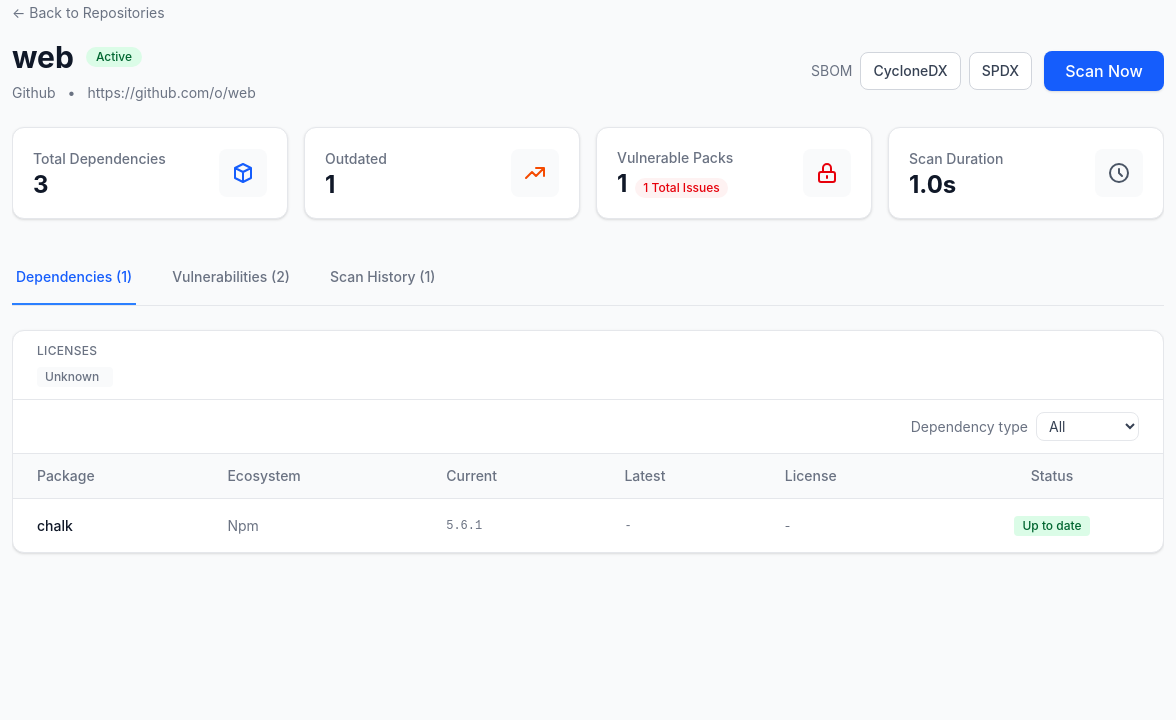
Test: RepoDetail › marks malicious packages in the vulnerability table
Click the button "Vulnerabilities (2)". click: (231, 278)
box: [168, 251, 294, 305]
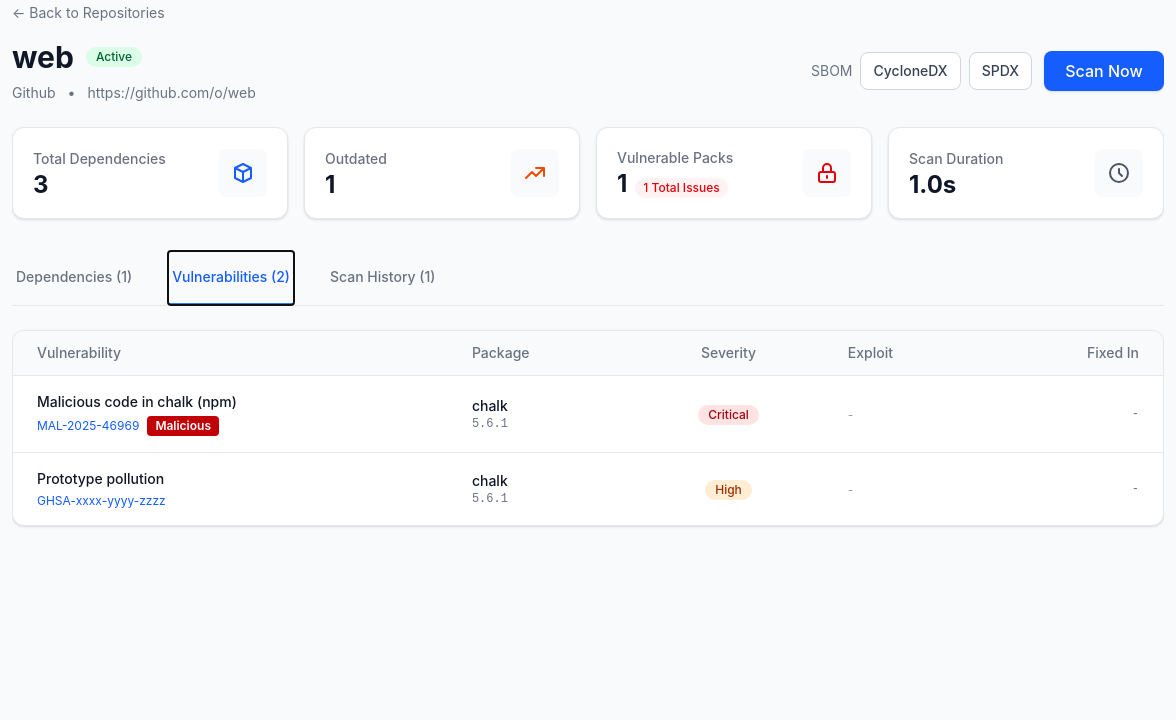
Now the text "Malicious code in chalk (npm)" is shown, box [37, 393, 237, 410]
Now the text "Malicious" is shown once, box [147, 416, 219, 436]
